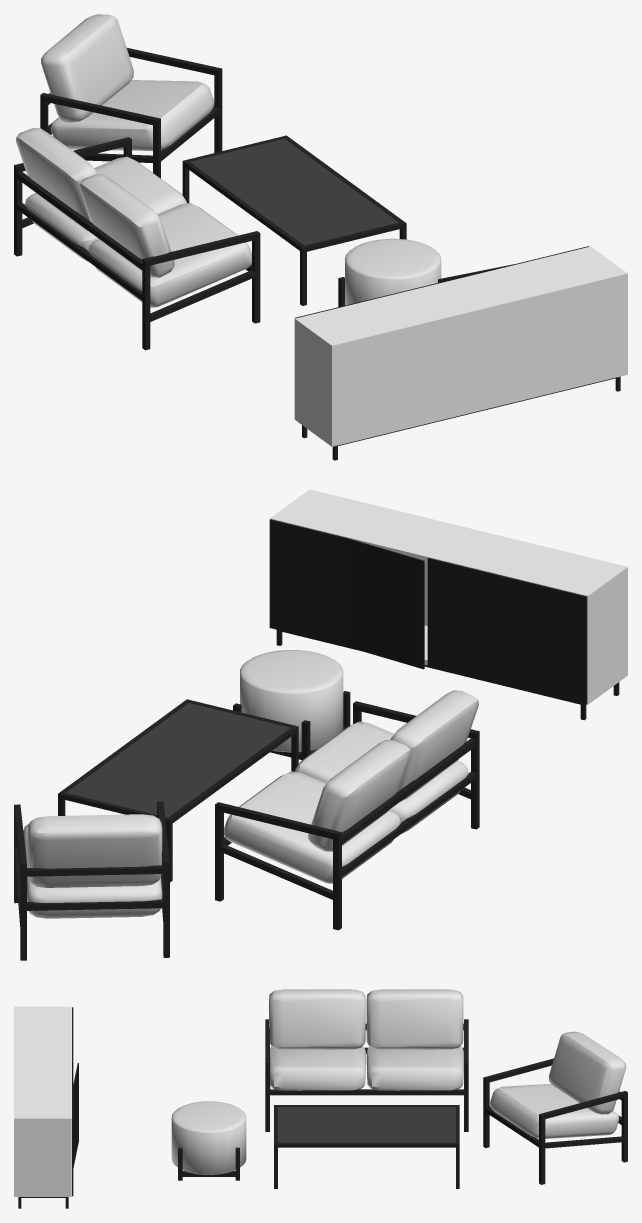
Rendered from Sofa_Group_steel (1).fbx.
3 views of the same model, one above another, from view 1: azimuth 30°, elevation 25°; view 2: azimuth 150°, elevation 25°; view 3: azimuth 270°, elevation 25° (orthographic). The views are drawn at different scales.
Visible parts, largest first — view 1: Cabinet, Cube.020, Table, Sofa pillow.005, Sofa.001, Puff.001, Couch; view 2: Cabinet, Cube.020, Table, Sofa pillow.005, Sofa.001, Puff.001, Couch, Puff; view 3: Cube.020, Cabinet, Sofa pillow.005, Table, Puff.001, Couch, Sofa.001, Puff.
Boxes of the visible parts, left/top/right/bottom form: Cabinet: left=294, top=246, right=627, bottom=460; Cube.020: left=16, top=128, right=251, bottom=307; Table: left=182, top=135, right=406, bottom=305; Sofa pillow.005: left=41, top=14, right=214, bottom=150; Sofa.001: left=14, top=137, right=260, bottom=350; Puff.001: left=345, top=238, right=441, bottom=305; Couch: left=40, top=48, right=222, bottom=178; Cabinet: left=269, top=489, right=627, bottom=720; Cube.020: left=224, top=690, right=478, bottom=883; Table: left=58, top=699, right=298, bottom=882; Sofa pillow.005: left=23, top=814, right=162, bottom=918; Sofa.001: left=215, top=701, right=479, bottom=930; Puff.001: left=240, top=650, right=343, bottom=752; Couch: left=14, top=801, right=169, bottom=960; Puff: left=233, top=691, right=350, bottom=760; Cube.020: left=269, top=989, right=463, bottom=1090; Cabinet: left=14, top=1006, right=78, bottom=1208; Sofa pillow.005: left=490, top=1031, right=626, bottom=1138; Table: left=274, top=1105, right=459, bottom=1188; Puff.001: left=171, top=1101, right=246, bottom=1174; Couch: left=483, top=1058, right=627, bottom=1184; Sofa.001: left=265, top=1019, right=468, bottom=1131; Puff: left=178, top=1147, right=239, bottom=1180.
Size of the model in its own units: 181 by 68.9 by 379.
1 material, 1 textured.
